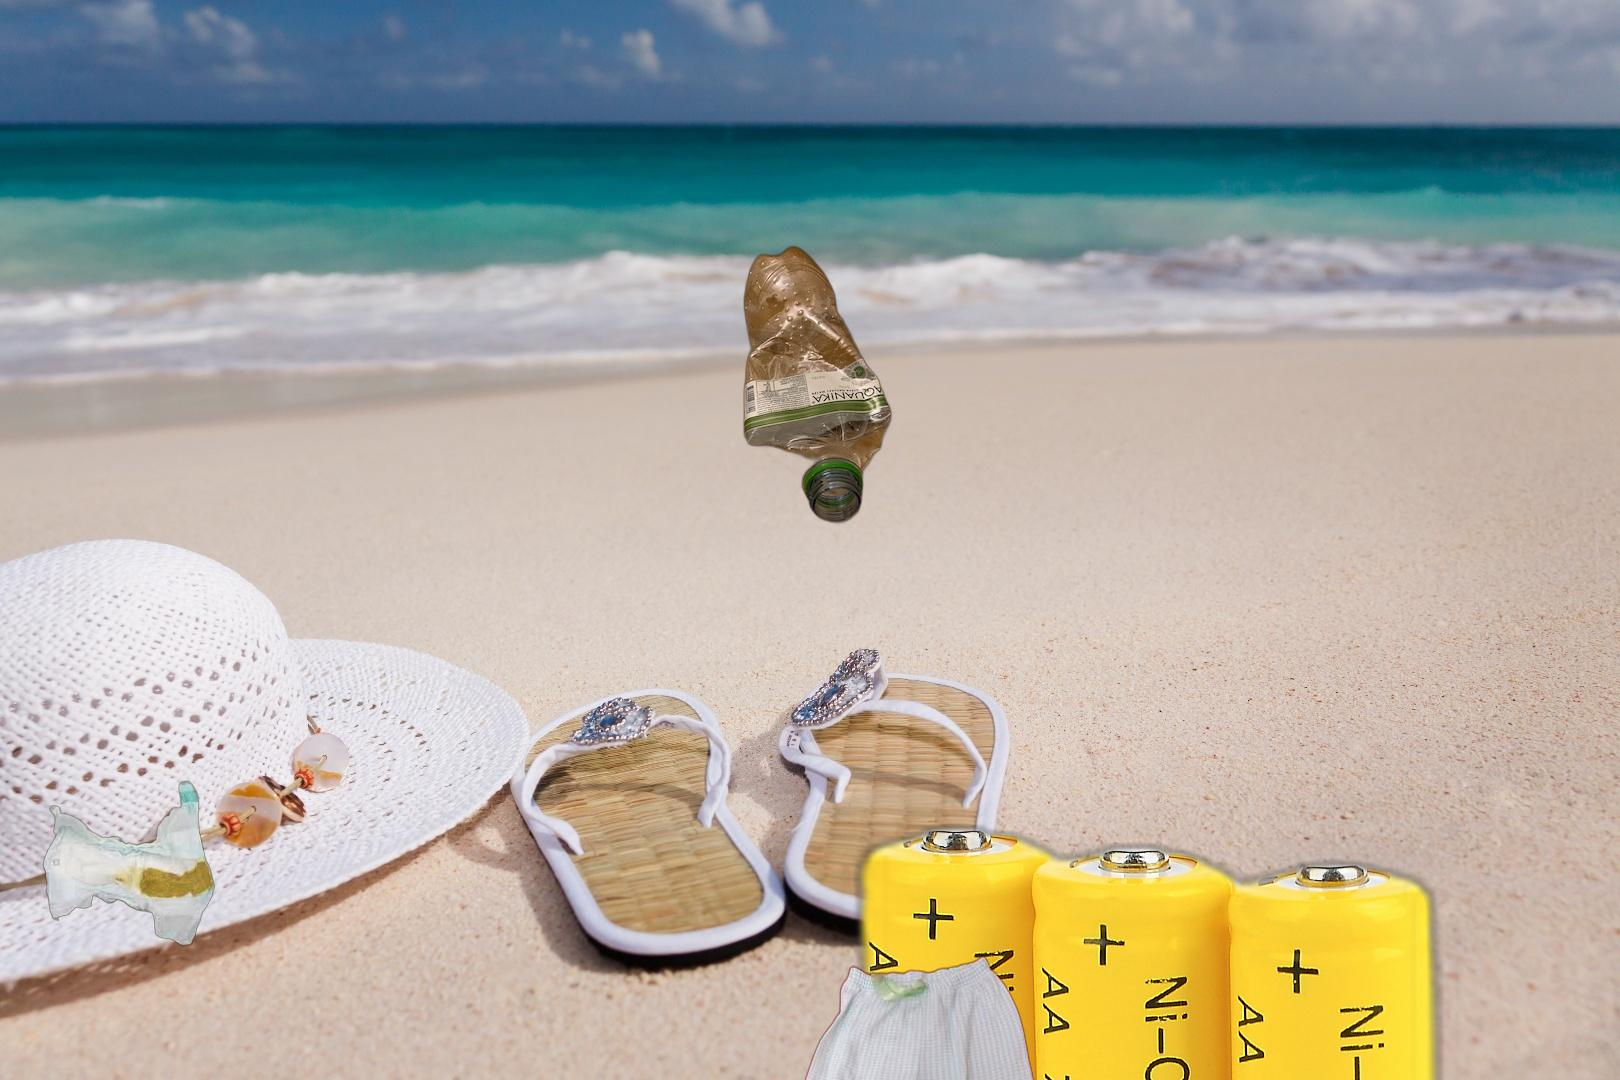battery: (830, 808, 1471, 1080)
clothes: (749, 952, 1082, 1080)
glass: (1480, 730, 1620, 1080)
plastic-bottles: (740, 242, 894, 526)
trash: (40, 777, 217, 947)
